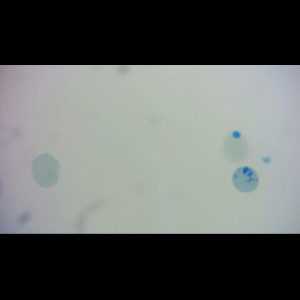aggregate reticulocyte: (230, 165, 260, 194)
erythrocyte: (220, 129, 251, 165)
punctate reticulocyte: (30, 152, 60, 188)
